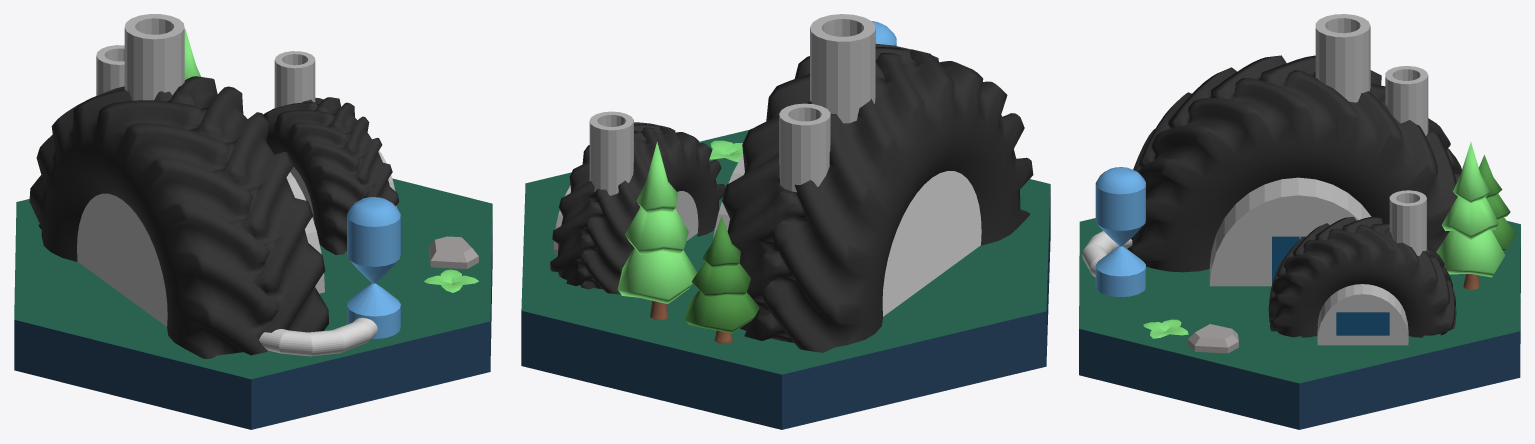
Rendered from Macro - transportation factory lv2 wm 1.fbx.
The picture shows the model from 3 angles, left to right: view 1: azimuth 30°, elevation 25°; view 2: azimuth 150°, elevation 25°; view 3: azimuth 270°, elevation 25°; orthographic projection. The views are drawn at different scales.
Visible parts, largest first — view 1: Cylinder.154, Cylinder.018, Cylinder.020, Cylinder.014, Cylinder.007, Cylinder.011, Cube.005, Cylinder.003, Rock Type4 04 mesh.001, Cylinder.004, Cylinder.016, Plane.003 (+1 smaller); view 2: Cylinder.154, Cylinder.018, Cylinder.020, Cylinder.014, Tree_Spruce_tiny_01.002, Cylinder.011, Tree_Spruce_tiny_01.001, Cylinder.004, Cylinder.003, Cylinder.006, Plane.003; view 3: Cylinder.154, Cylinder.018, Cylinder.020, Cylinder.016, Cylinder.007, Tree_Spruce_tiny_01.002, Cylinder.011, Cylinder.015, Cylinder.004, Cylinder.003, Plane.004, Tree_Spruce_tiny_01.001 (+4 smaller).
Part boxes in pixels (x1,y1,x2,y2): Cylinder.154: (14,178,492,429); Cylinder.018: (29,76,328,358); Cylinder.020: (263,97,399,254); Cylinder.014: (77,193,167,326); Cylinder.007: (347,197,400,338); Cylinder.011: (124,14,184,100); Cube.005: (259,317,377,356); Cylinder.003: (274,51,315,108); Rock Type4 04 mesh.001: (429,236,478,268); Cylinder.004: (96,45,124,95); Cylinder.016: (286,172,324,293); Plane.003: (424,269,478,292); Cylinder.154: (521,130,1050,429); Cylinder.018: (722,43,1033,352); Cylinder.020: (550,122,725,294); Cylinder.014: (882,171,981,316); Tree_Spruce_tiny_01.002: (617,141,697,320); Cylinder.011: (810,14,875,123); Tree_Spruce_tiny_01.001: (684,216,759,343); Cylinder.004: (779,103,830,192); Cylinder.003: (589,111,633,195); Cylinder.006: (675,191,698,240); Plane.003: (709,140,742,162); Cylinder.154: (1079,218,1520,429); Cylinder.018: (1127,55,1461,272); Cylinder.020: (1268,216,1456,337); Cylinder.016: (1209,177,1371,286); Cylinder.007: (1095,167,1145,297); Tree_Spruce_tiny_01.002: (1436,142,1505,289); Cylinder.011: (1315,14,1370,102); Cylinder.015: (1317,284,1408,345); Cylinder.004: (1385,66,1428,135); Cylinder.003: (1389,190,1426,255); Plane.004: (1336,312,1389,335); Tree_Spruce_tiny_01.001: (1479,155,1516,251).
Size of the model in its own units: 197 by 133 by 172.
